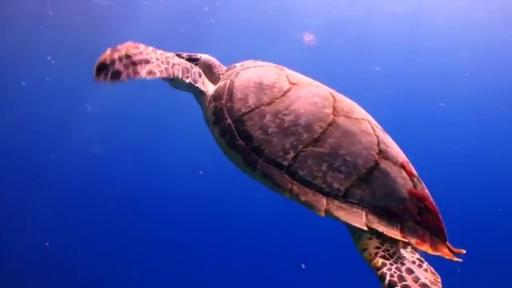Fish: (95, 43, 464, 287)
